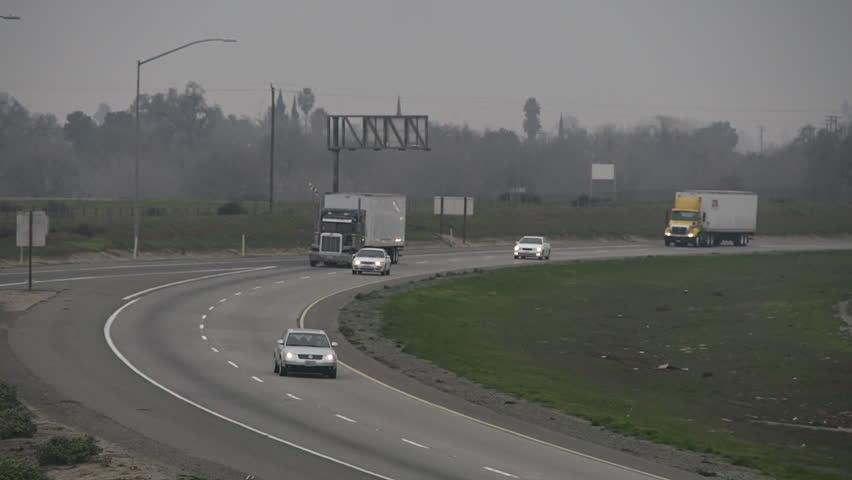bus: (309, 191, 408, 270), (662, 187, 759, 248)
car: (273, 327, 340, 379), (350, 247, 392, 276), (513, 234, 552, 260)
